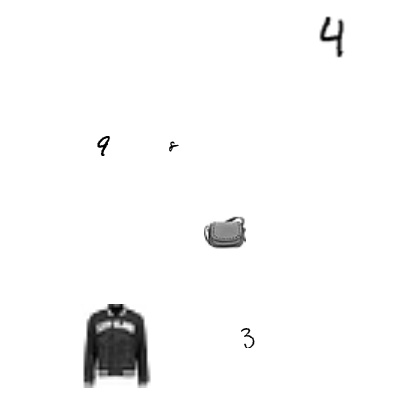3: (234, 323, 262, 351)
4: (304, 7, 360, 63)
8: (165, 139, 179, 153)
9: (89, 130, 117, 158)
Bag: (204, 211, 246, 253)
Coat: (72, 304, 156, 388)
